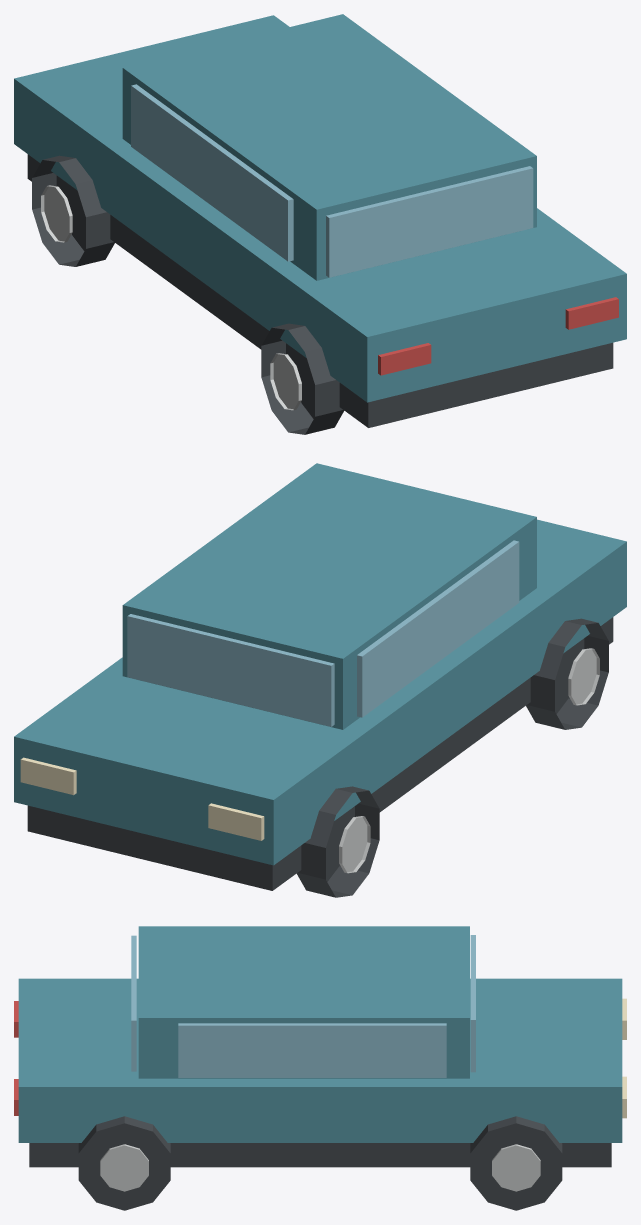
Rendered from car-lowpoly.glb.
3 renders of one model, top to bottom at view 1: azimuth 30°, elevation 25°; view 2: azimuth 150°, elevation 25°; view 3: azimuth 270°, elevation 25°, orthographic. The views are drawn at different scales.
Visible parts, largest first — view 1: car; view 2: car; view 3: car.
Part boxes in pixels (bbox=[...]): car: bbox=[14, 14, 626, 434]; car: bbox=[14, 463, 626, 897]; car: bbox=[14, 926, 626, 1210].
Size of the model in its own units: 2.21 by 1.46 by 4.57.
